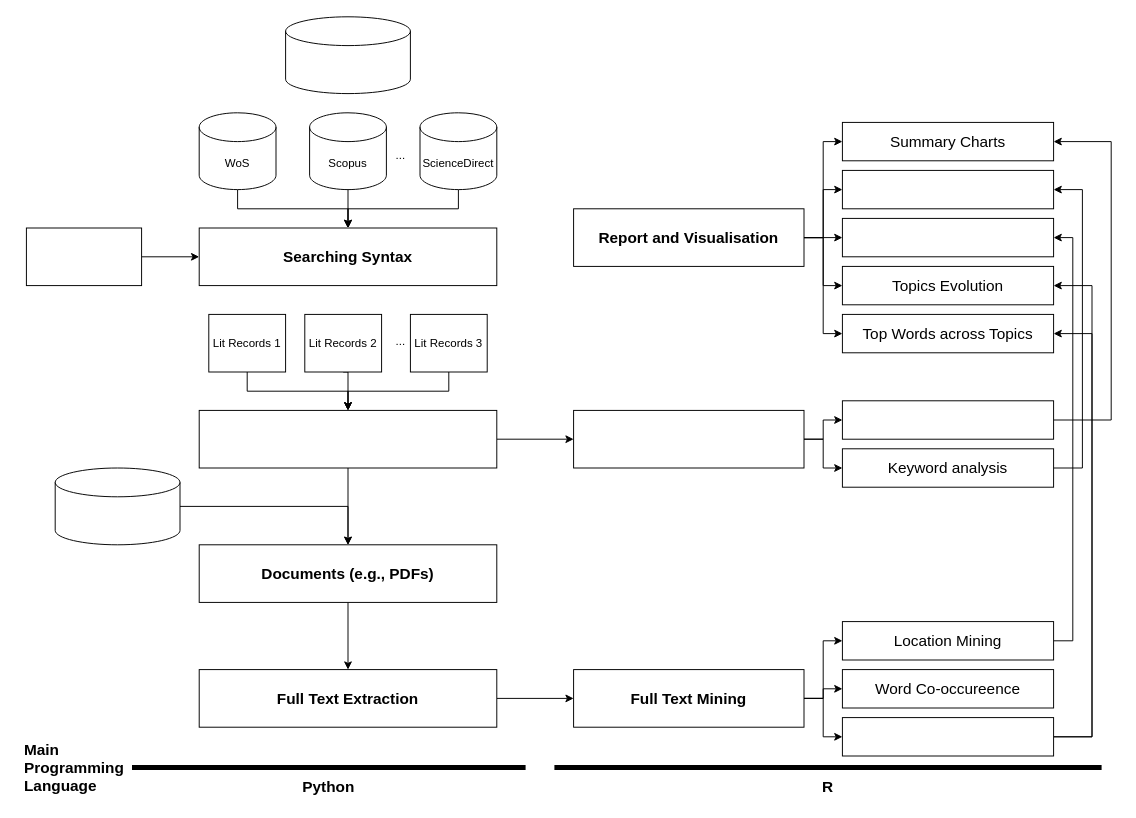
Some shapes in this 1136 by 818 pixel diagram are drawn without their labels. Each missing label, with the centre of its shape:
DataBase: (347,55)
DataBase API, PyPaperBot: (117,506)
Keywords: (83,256)
Mapping: (947,237)
Merged Records: (347,438)
Meta Data Analysis: (688,438)
Summary Statistics: (947,419)
Topic Identification: (947,736)
WordClouds: (947,189)
